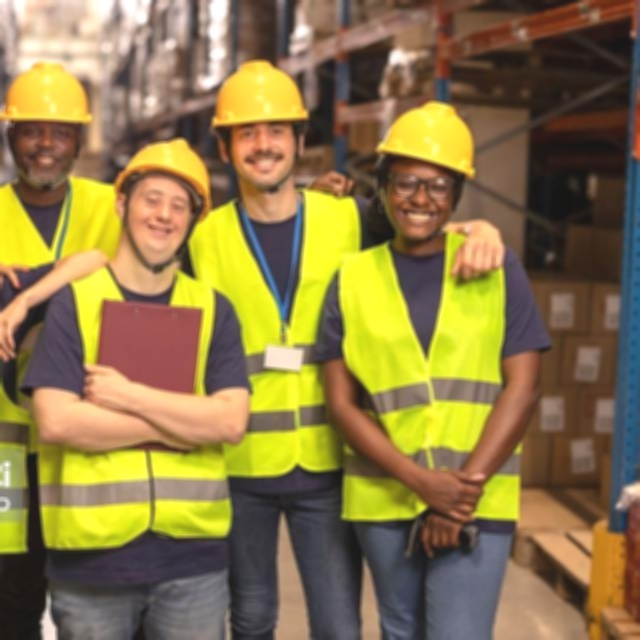Con_Chaleco: (340, 233, 520, 517), (42, 266, 226, 542), (200, 191, 365, 474)
